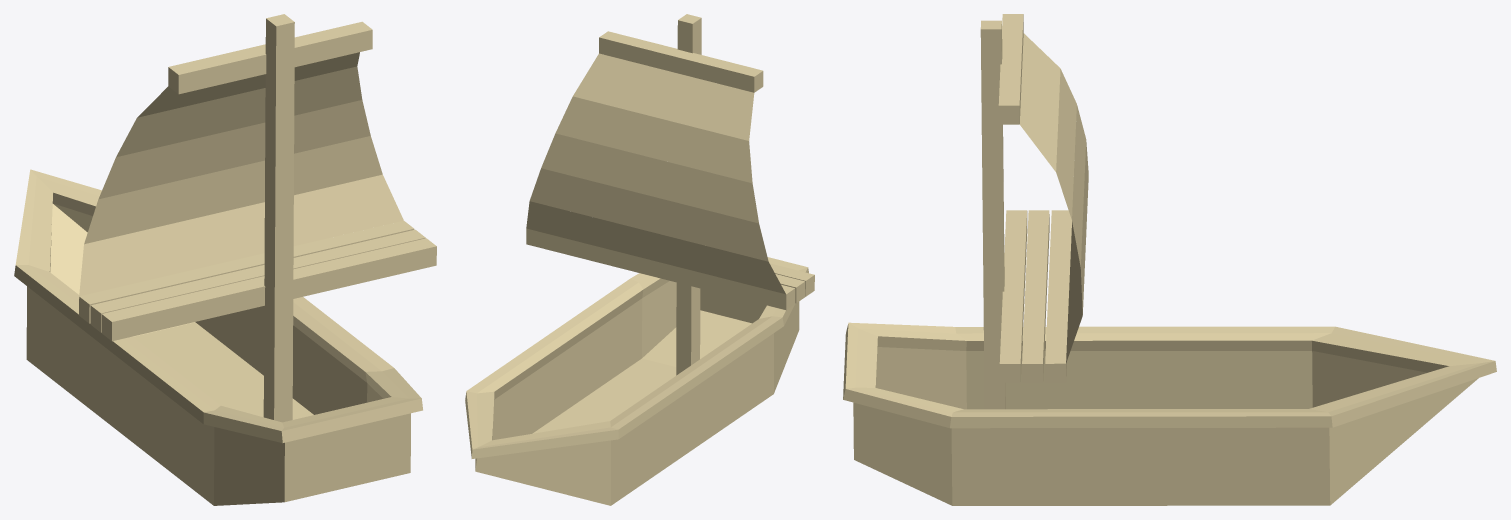
File: A_low_poly_Boat.glb
The picture shows the model from 3 angles, left to right: view 1: azimuth 30°, elevation 25°; view 2: azimuth 150°, elevation 25°; view 3: azimuth 270°, elevation 25°; orthographic projection. The views are drawn at different scales.
Parts seen in each view (by area): view 1: unnamed (×4); view 2: unnamed (×4); view 3: unnamed (×4).
Part boxes in pixels (bbox=[...]): unnamed (×4): bbox=[14, 14, 436, 505]; unnamed (×4): bbox=[465, 14, 814, 505]; unnamed (×4): bbox=[843, 14, 1496, 505].
Bounding box in the file's own units: 1.04 × 1.4 × 1.88.
